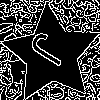J: (26, 28, 79, 75)
